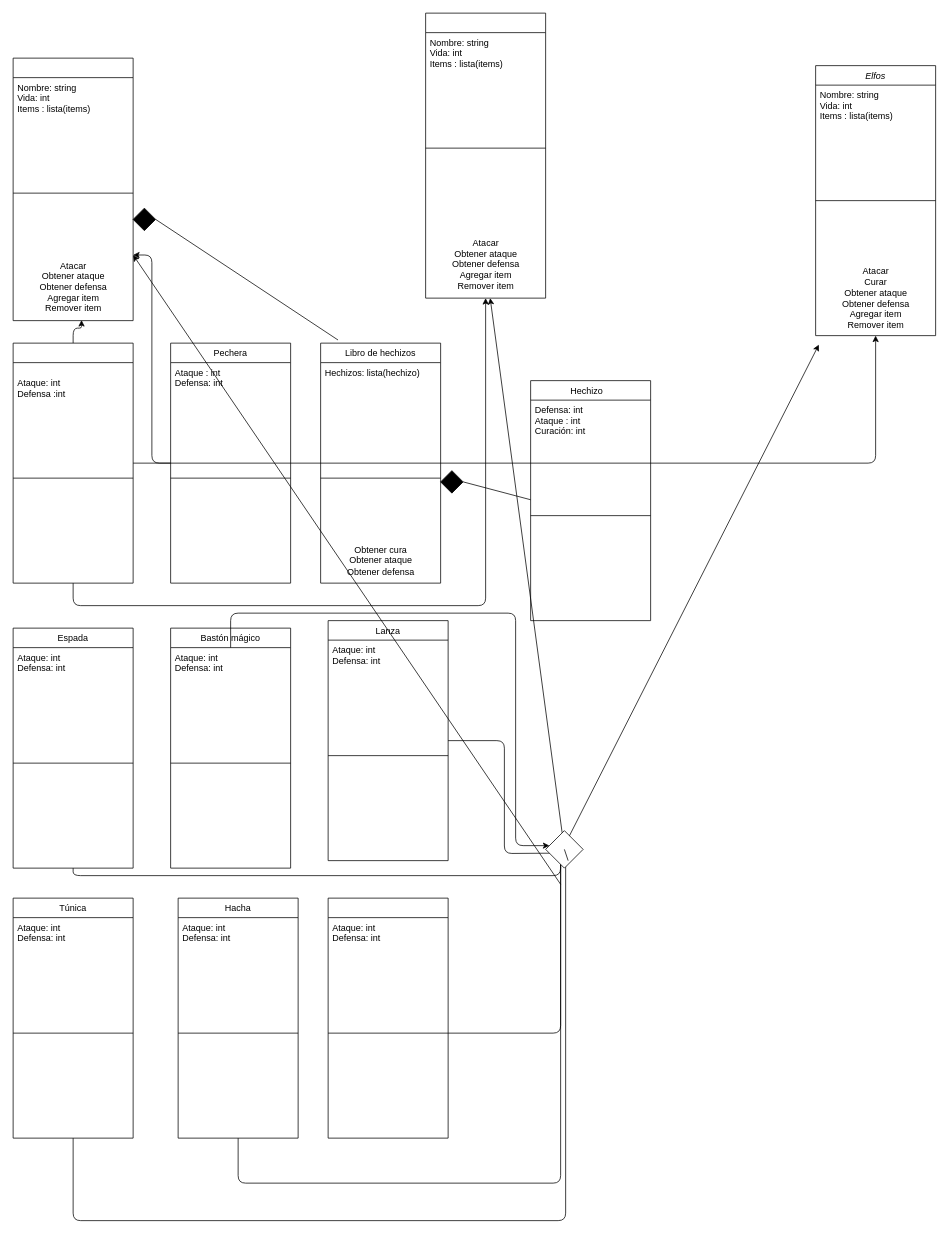
The diagram is 949 pixels wide and 1240 high, and some of its shapes have lost their labels. Here are the shapes that lost their labels. From the top down, the box of each, then its label:
(425, 12, 546, 298): Enano
(12, 57, 133, 321): Magos
(12, 342, 133, 583): Escudo
(327, 897, 448, 1138): Casco
